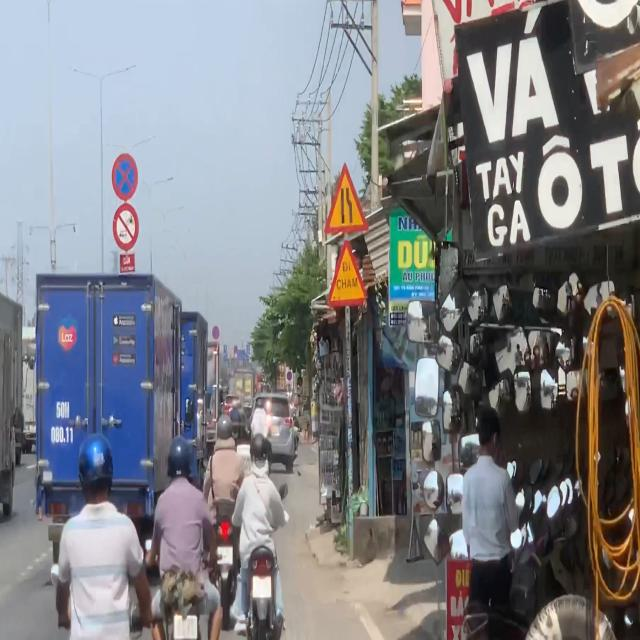Cam con lai: (113, 204, 139, 254)
Cam dung va do: (112, 152, 138, 200), (212, 326, 220, 339), (287, 371, 292, 381)
Giao voi duong khong uu tien: (324, 162, 370, 235)
Nguy hiem: (327, 240, 371, 308)
